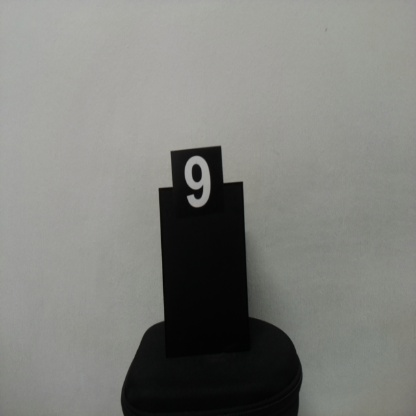id_9: (172, 151, 223, 225)
